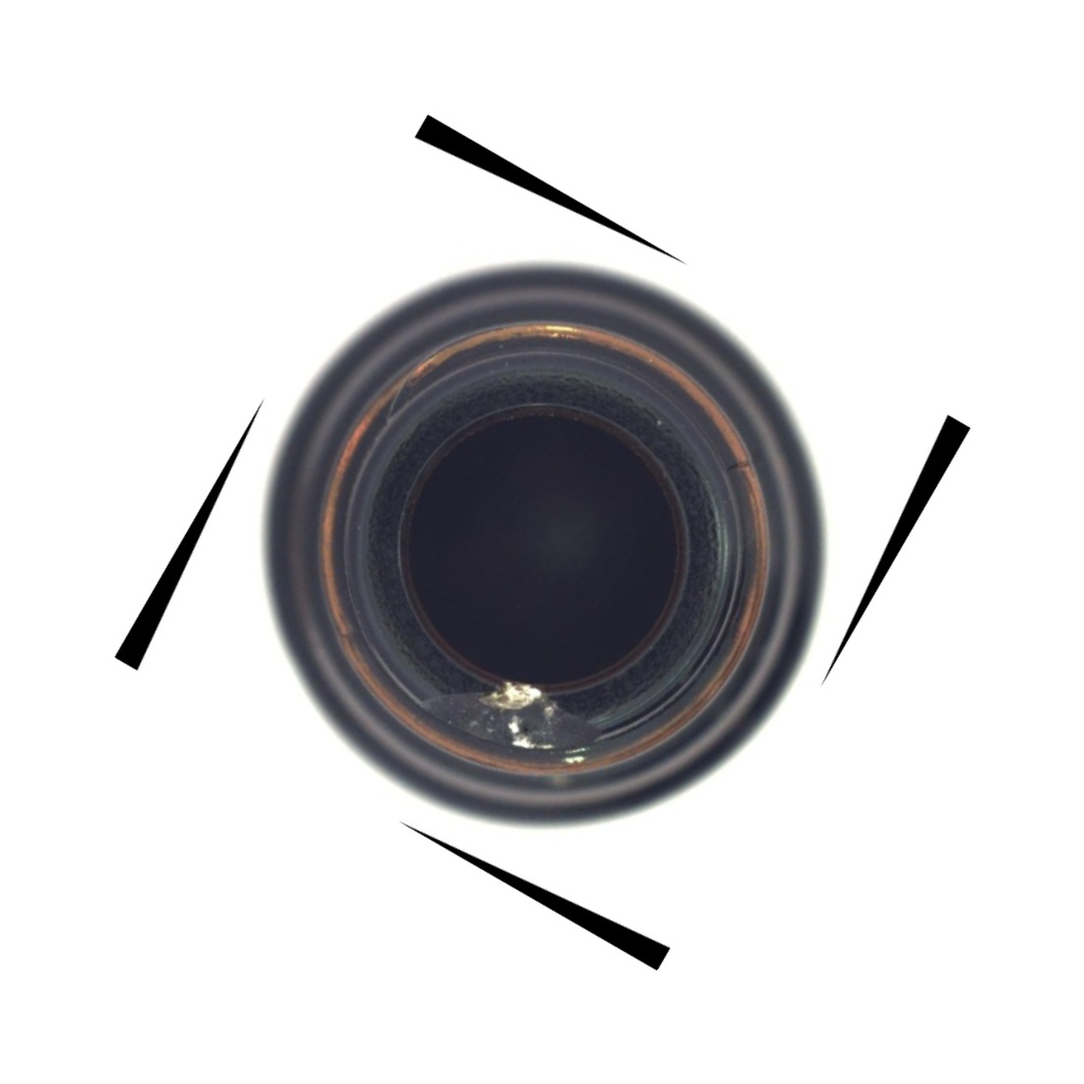bad-broken_small: (46, 49, 1029, 1038)
